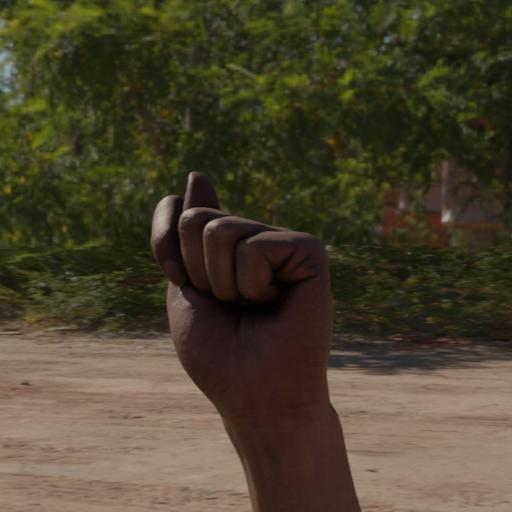T: (146, 169, 358, 406)
